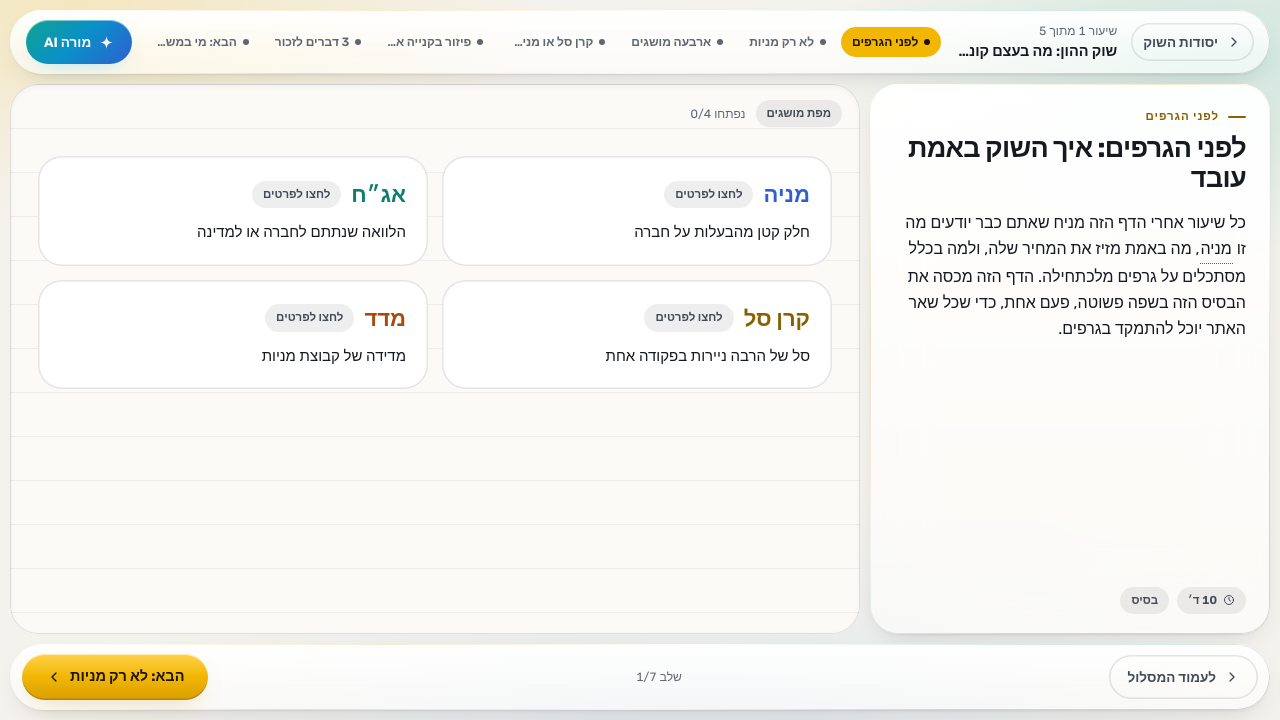
Test case: sorting (F1) › the lesson opens on its four concept cards
The image size is (1280, 720).
Click the button "אג״ח לחצו לפרטים הלוואה שנתתם לחברה או למדינה". click: {"x": 379, "y": 194}
box: 38,156 -> 428,266
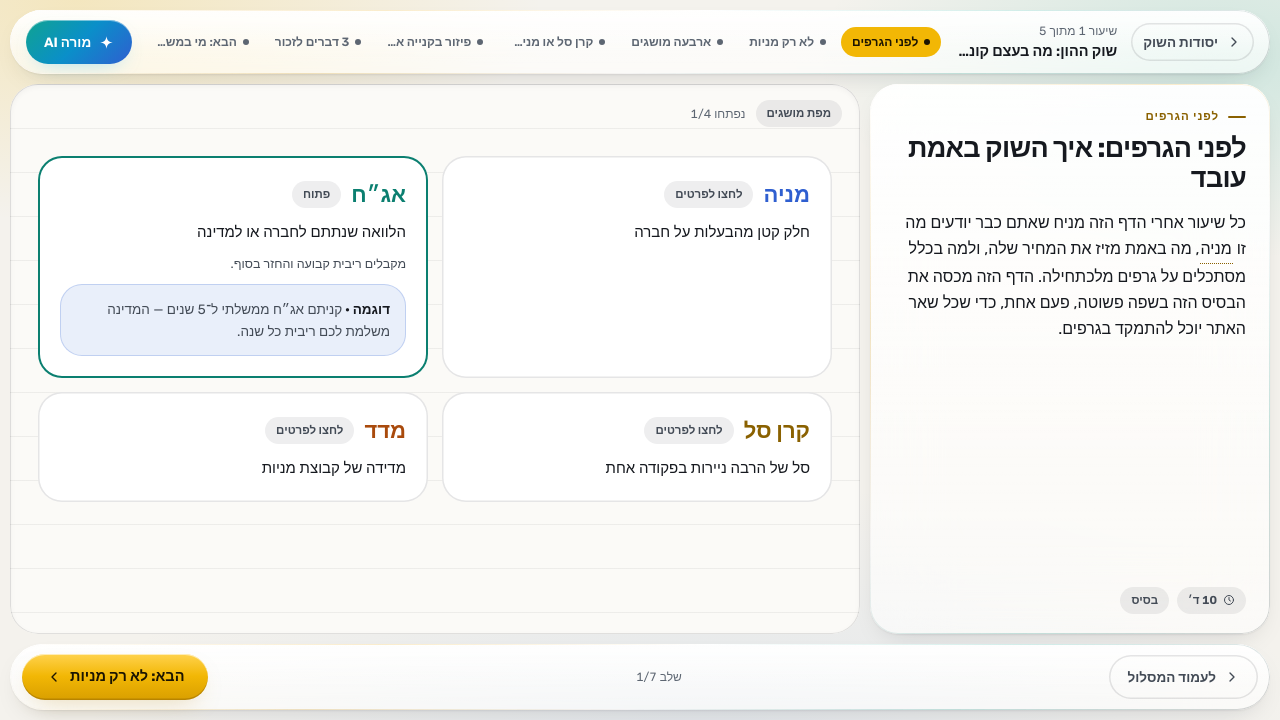
Expected: the button "אג״ח" is expanded, 38,156 -> 428,378
Expected: the text "מקבלים ריבית קבועה והחזר בסוף." is shown, 230,254 -> 406,274
